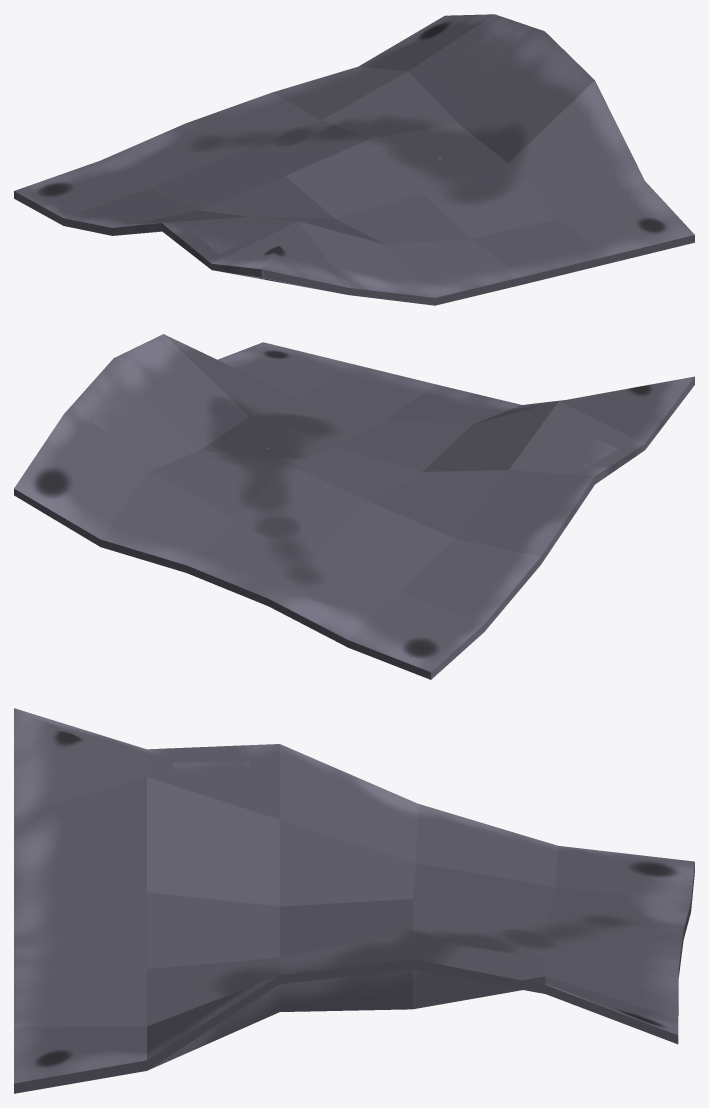
Rendered from destroco.fbx.
3 renders of one model, top to bottom at view 1: azimuth 30°, elevation 25°; view 2: azimuth 150°, elevation 25°; view 3: azimuth 270°, elevation 25°, orthographic. The views are drawn at different scales.
Parts seen in each view (by area): view 1: Destroço1; view 2: Destroço1; view 3: Destroço1.
Part boxes in pixels (x1=…): Destroço1: x1=14, y1=14, x2=694, y2=305; Destroço1: x1=14, y1=334, x2=694, y2=679; Destroço1: x1=14, y1=708, x2=694, y2=1093.
Size of the model in its own units: 476 by 148 by 488.
Materials: 1 (1 with a texture image).
